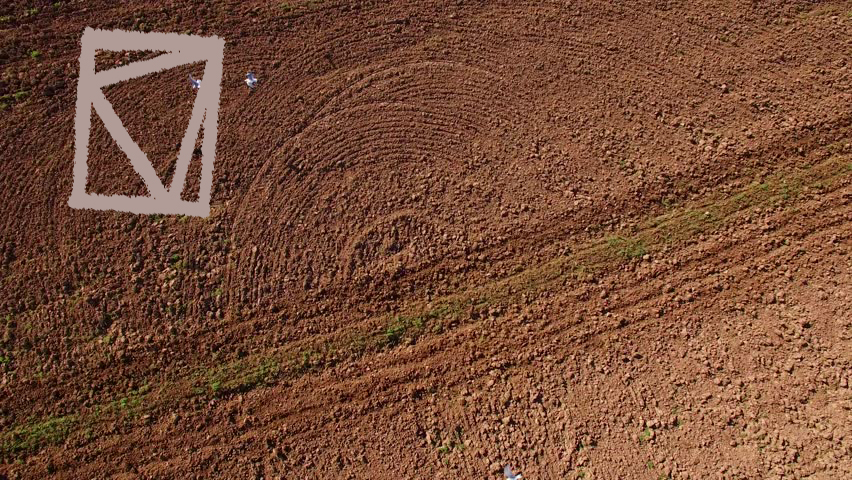marker: (55, 24, 233, 222)
